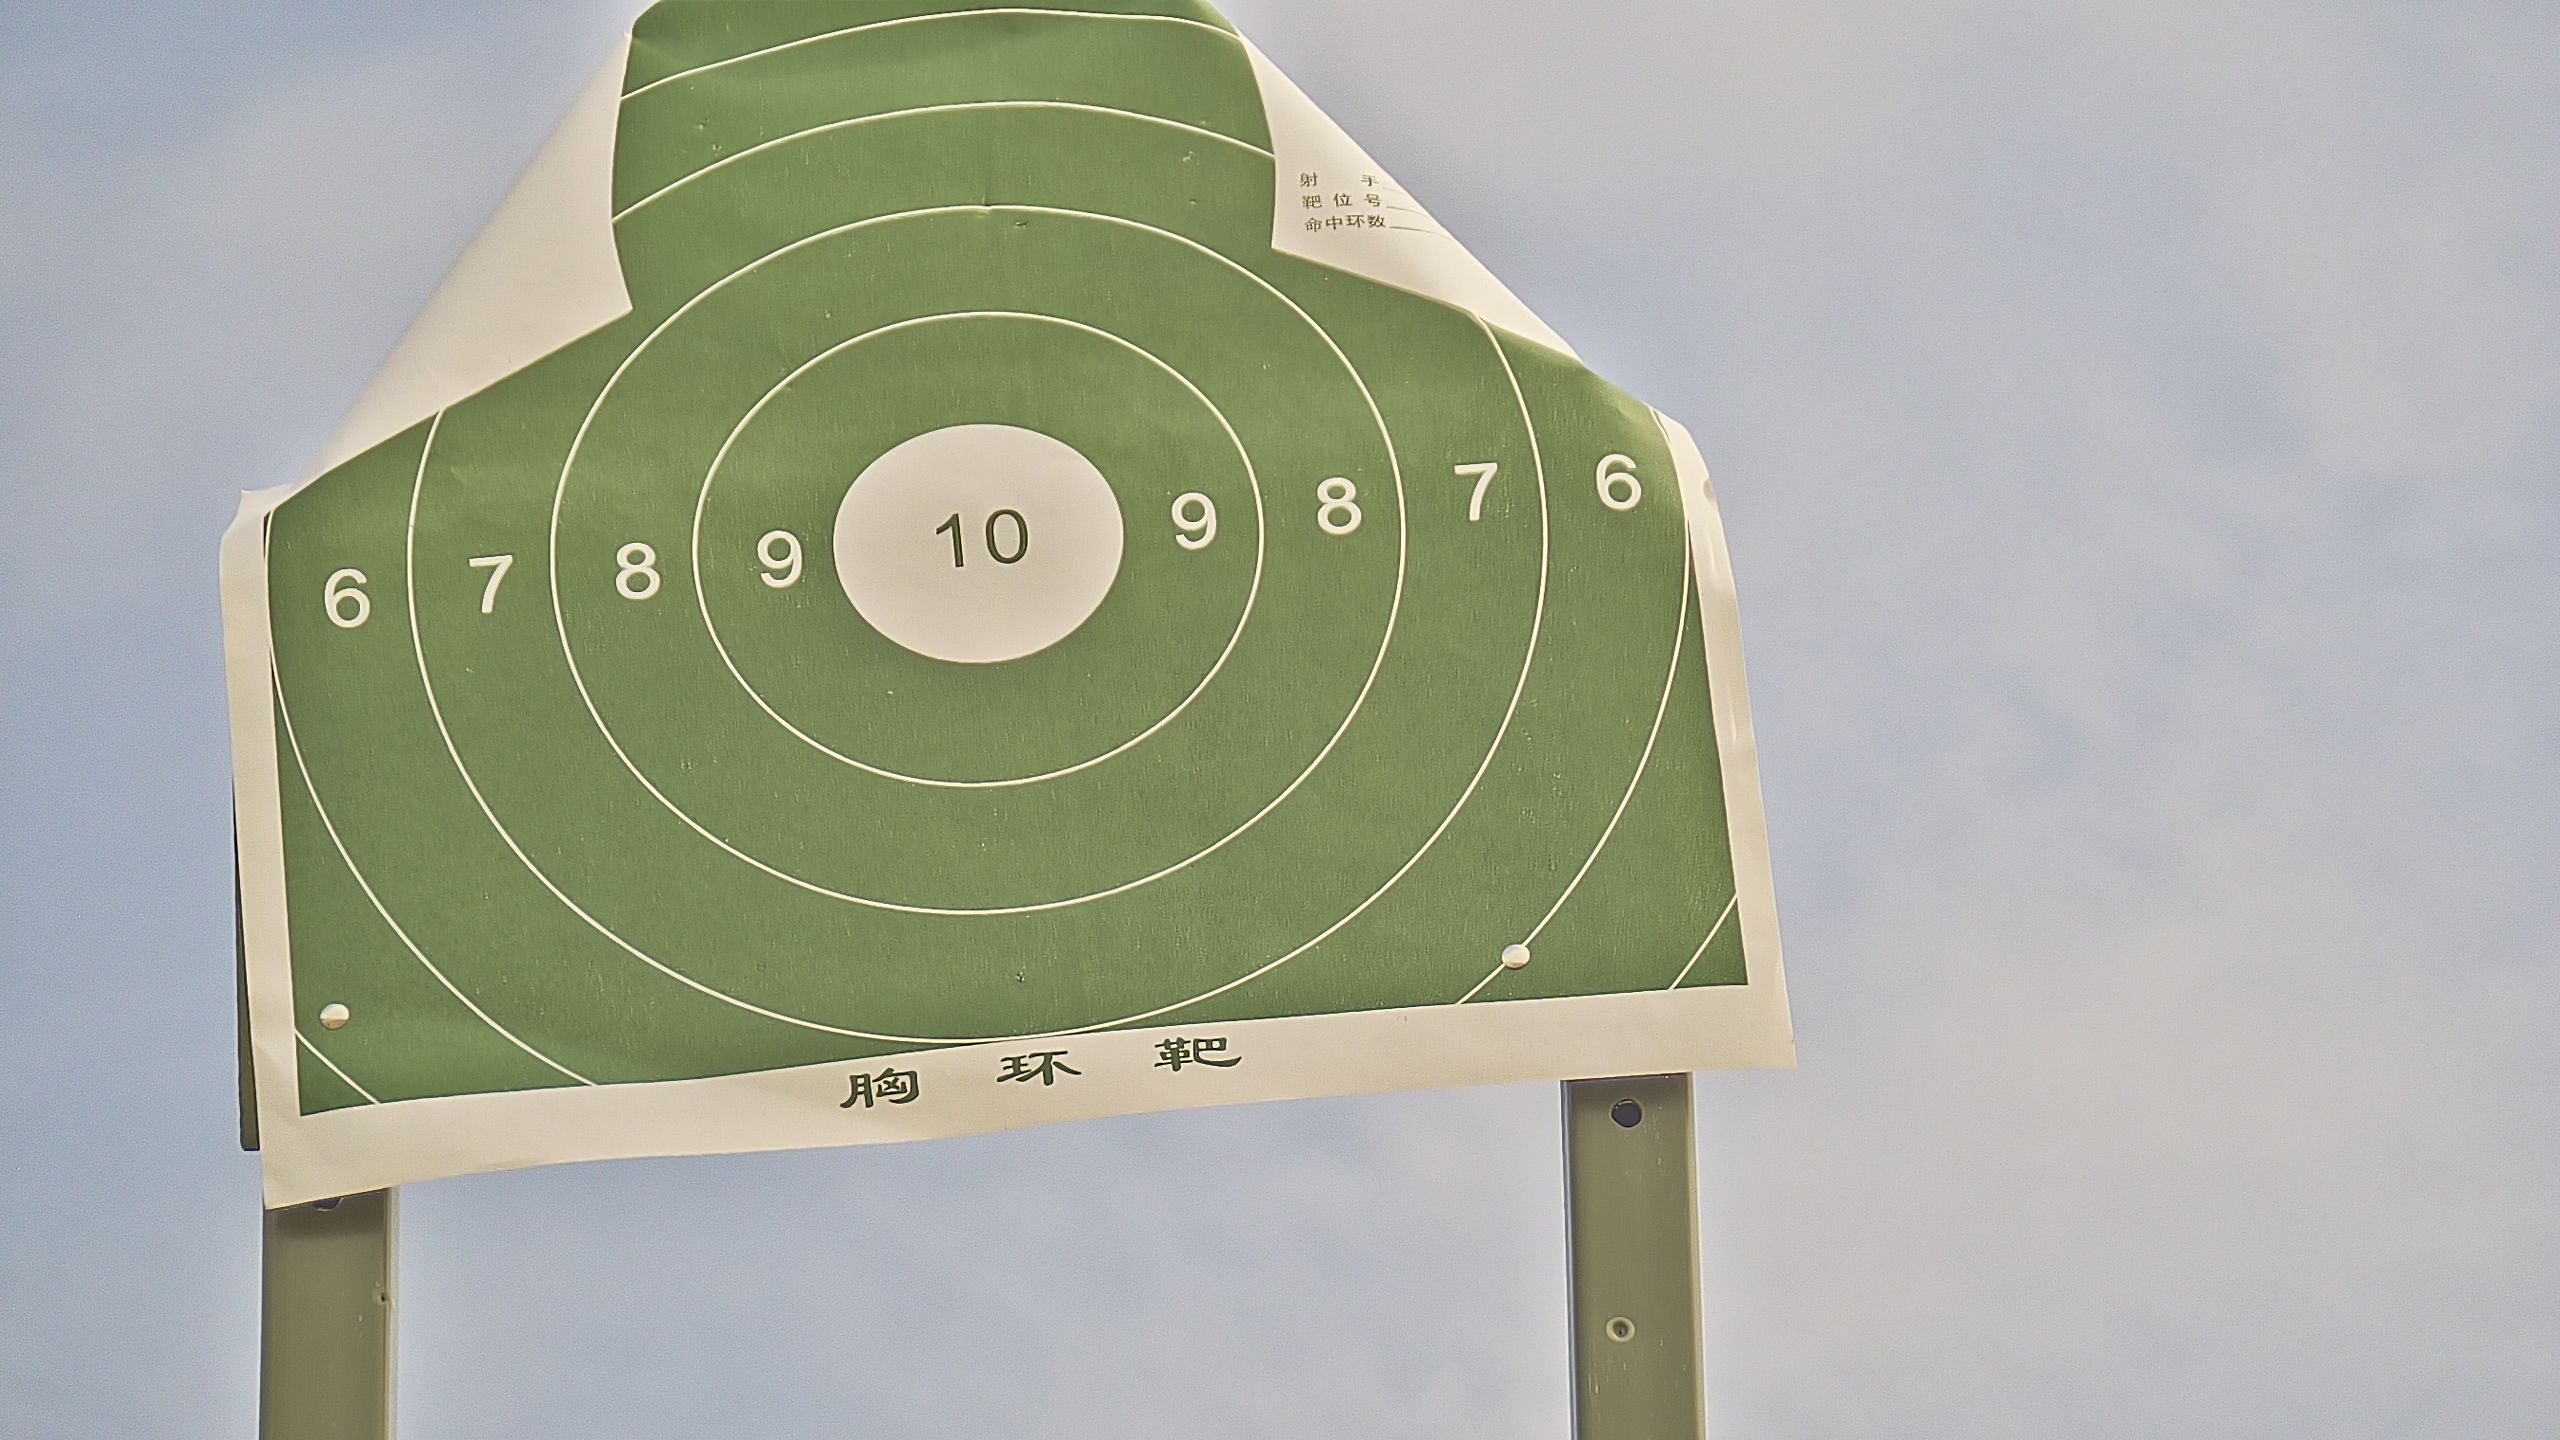kernel: (972, 535, 976, 540)
target: (260, 2, 1744, 1118)
ten: (832, 418, 1116, 666)
